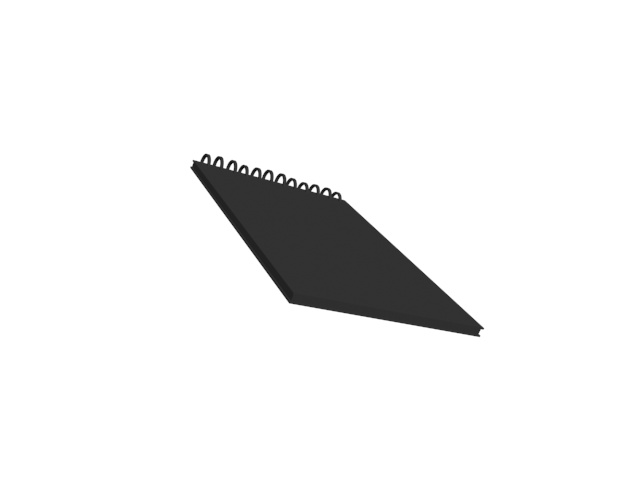paper_notebook: (185, 153, 488, 344)
